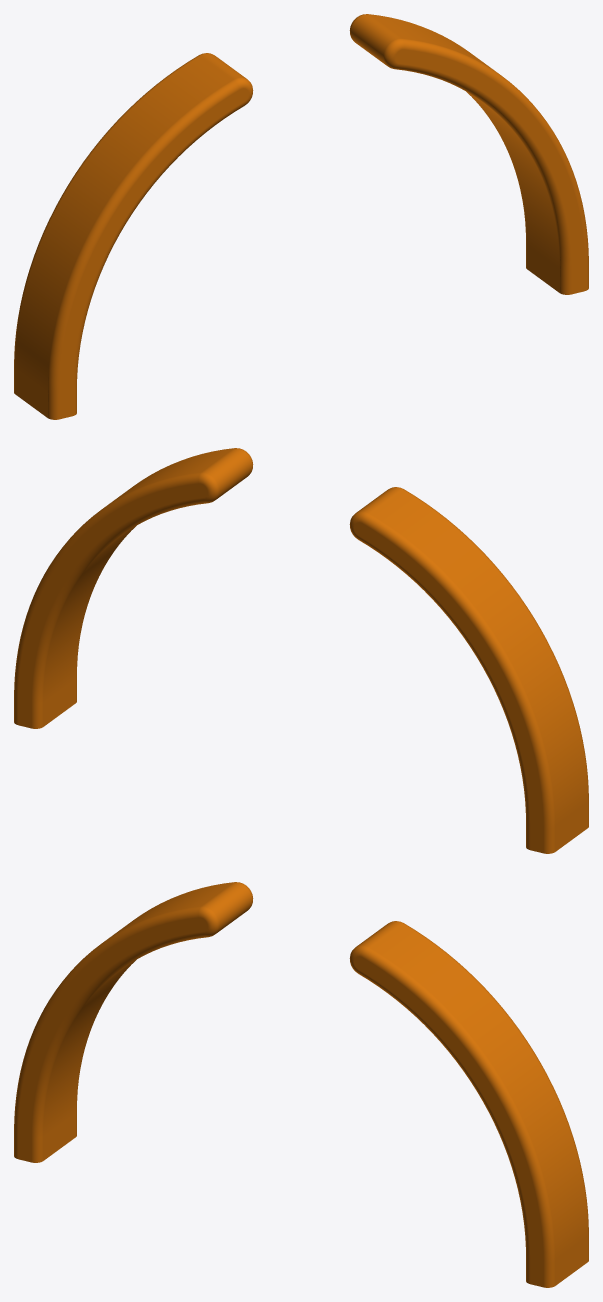
File: FG_BandGold.obj
3 renders of one model, top to bottom at view 1: azimuth 30°, elevation 25°; view 2: azimuth 150°, elevation 25°; view 3: azimuth 330°, elevation 25°, orthographic.
Visible parts, largest first — view 1: FG_BandGold; view 2: FG_BandGold; view 3: FG_BandGold.
Boxes of the visible parts, x1,y1,x2,y2 form: FG_BandGold: (14, 14, 588, 419); FG_BandGold: (14, 448, 588, 853); FG_BandGold: (14, 882, 588, 1287).
Size of the model in its own units: 23 by 11.96 by 3.04.
